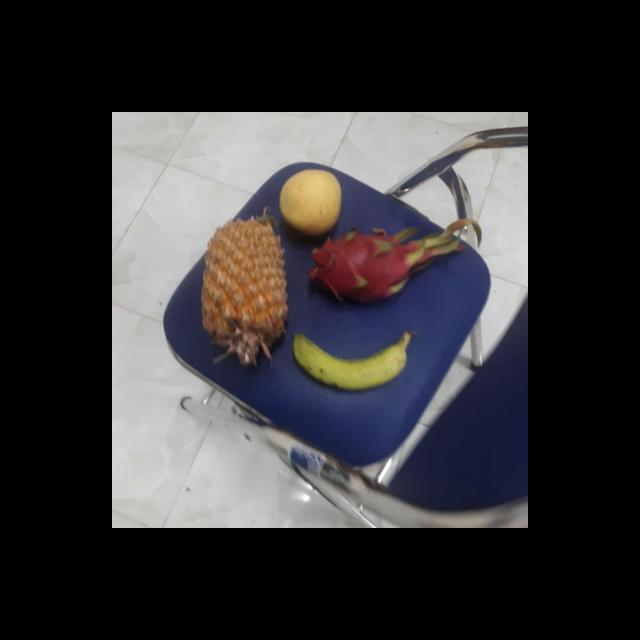Sakya fruit: (204, 216, 293, 362)
banana: (296, 329, 410, 392)
pear: (278, 169, 346, 235)
pitaya: (312, 228, 431, 306)
